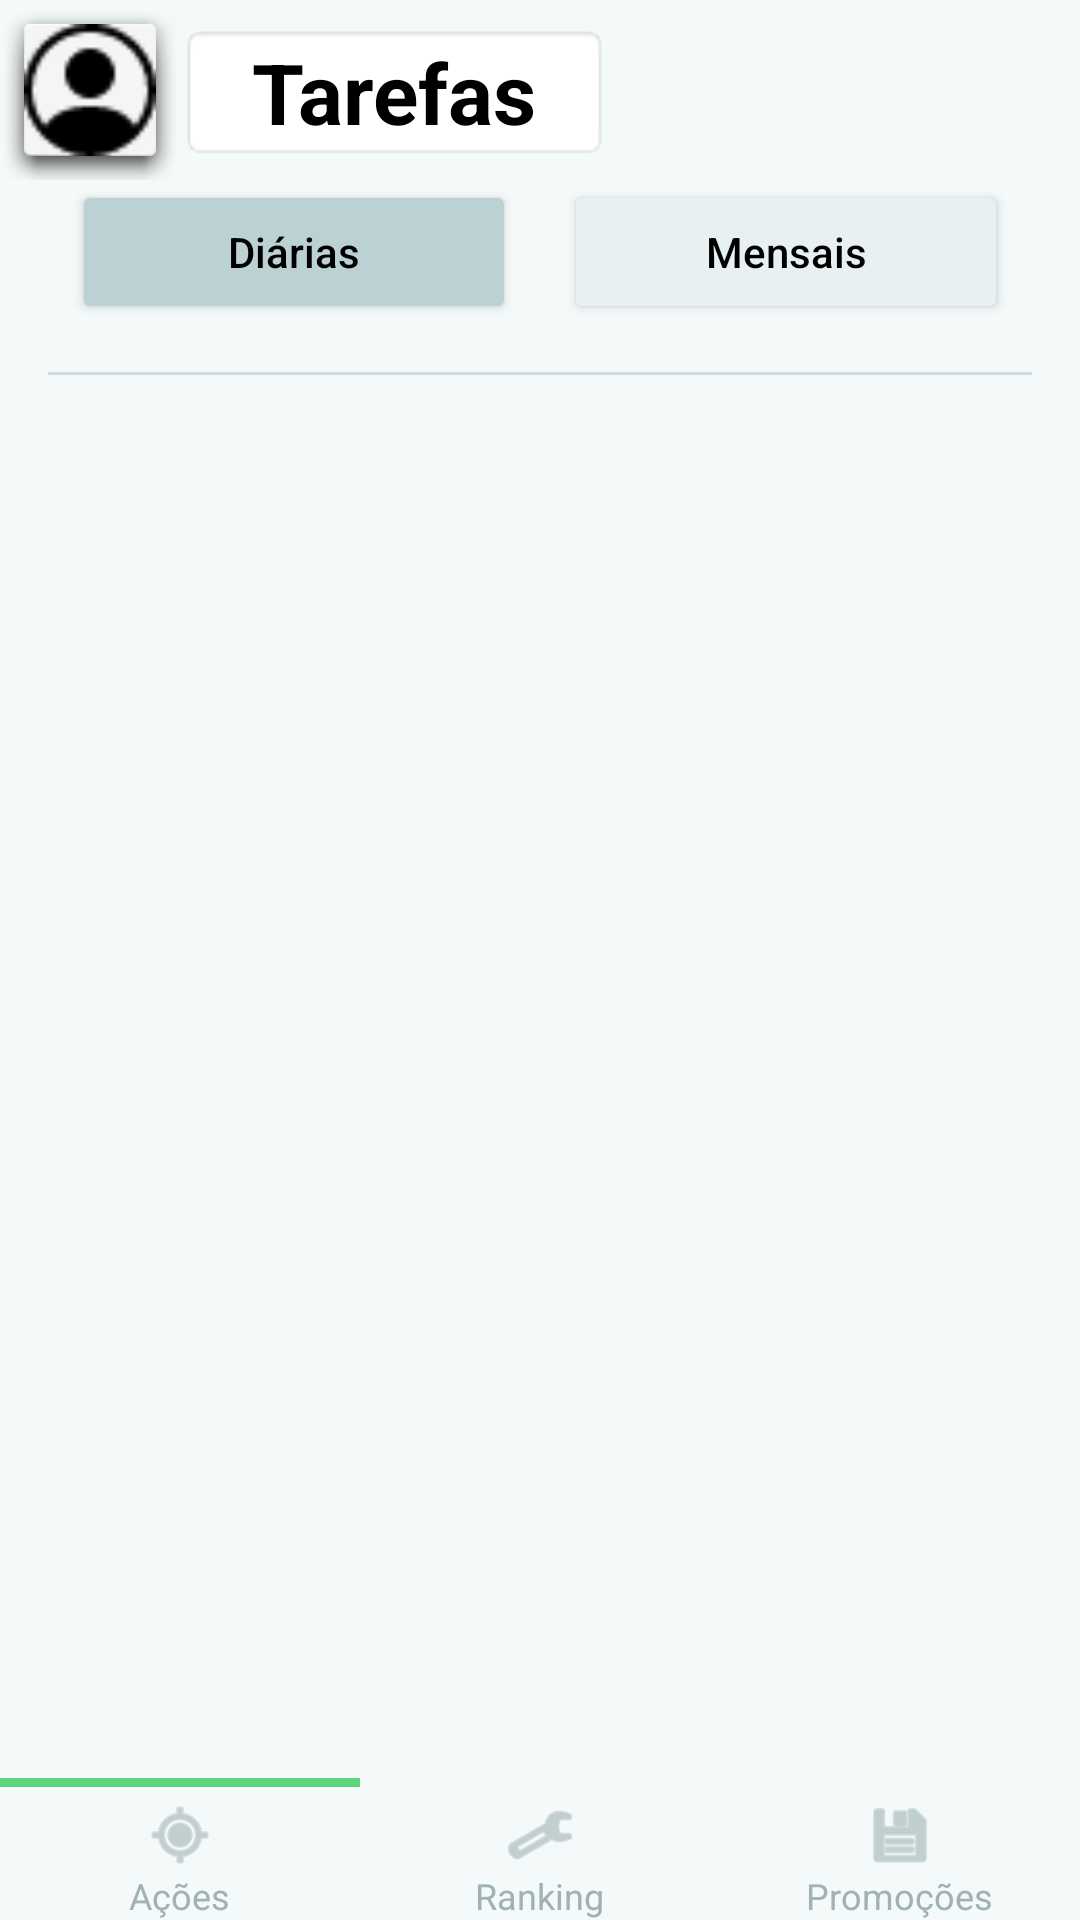

Icons on this 1080px×1920px Android screen, each with its box as (x1, y1, x2, y2):
manage: (508, 1811, 572, 1859)
mylocation: (152, 1807, 208, 1863)
perfil: (12, 20, 168, 176)
save: (873, 1808, 927, 1863)
